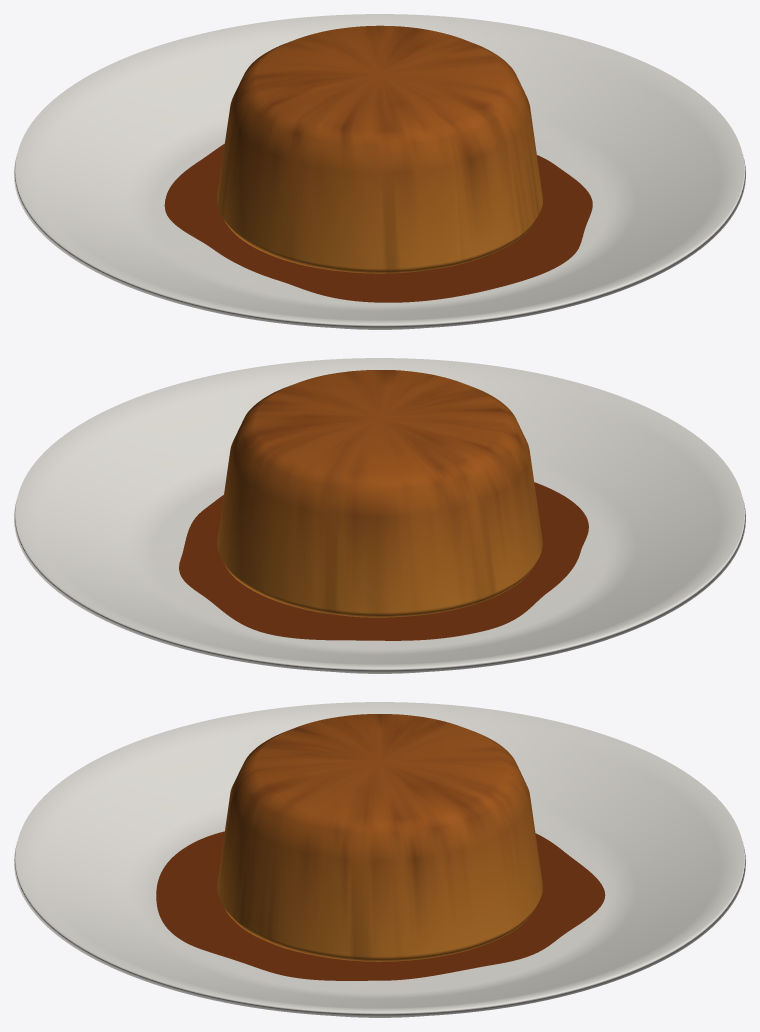
The model's file is pudim-abade-de-priscos.glb.
The picture shows the model from 3 angles, top to bottom: view 1: azimuth 30°, elevation 25°; view 2: azimuth 150°, elevation 25°; view 3: azimuth 270°, elevation 25°; orthographic projection.
Visible parts, largest first — view 1: plate, pudim, caramelo; view 2: plate, pudim, caramelo; view 3: plate, pudim, caramelo.
Boxes of the visible parts, box(x1,y1,x2,y2) form: plate: box(14, 14, 745, 329); pudim: box(217, 25, 542, 273); caramelo: box(164, 144, 592, 302); plate: box(14, 358, 745, 673); pudim: box(217, 370, 542, 617); caramelo: box(179, 482, 588, 640); plate: box(14, 702, 745, 1017); pudim: box(217, 714, 542, 961); caramelo: box(156, 831, 605, 980).
Size of the model in its own units: 0.2 by 0.0475 by 0.2.
